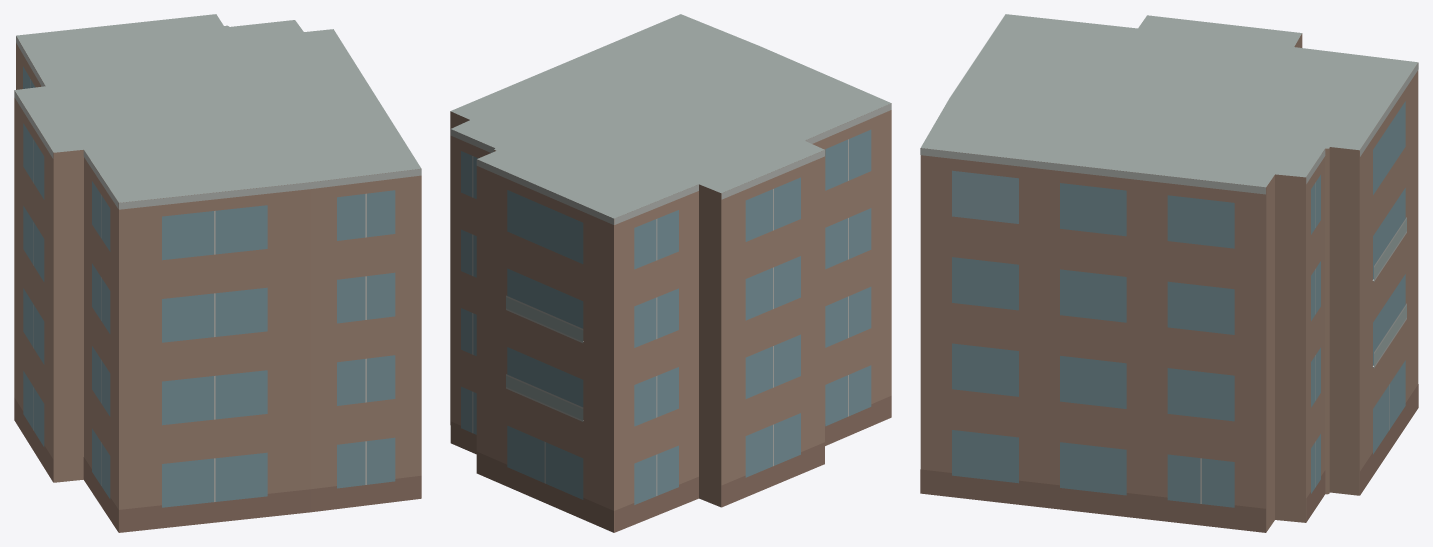
The model's file is survey-upis-32925819.glb.
3 views of the same model, side by side, from view 1: azimuth 30°, elevation 25°; view 2: azimuth 150°, elevation 25°; view 3: azimuth 270°, elevation 25° (orthographic). The views are drawn at different scales.
Parts seen in each view (by area): view 1: survey-upis-32925819.tmp; view 2: survey-upis-32925819.tmp; view 3: survey-upis-32925819.tmp.
Part boxes in pixels (x1,y1,x2,y2): survey-upis-32925819.tmp: [14, 14, 421, 532]; survey-upis-32925819.tmp: [450, 14, 891, 532]; survey-upis-32925819.tmp: [920, 14, 1418, 532].
Bounding box in the file's own units: 12.59 × 11.7 × 15.29.
